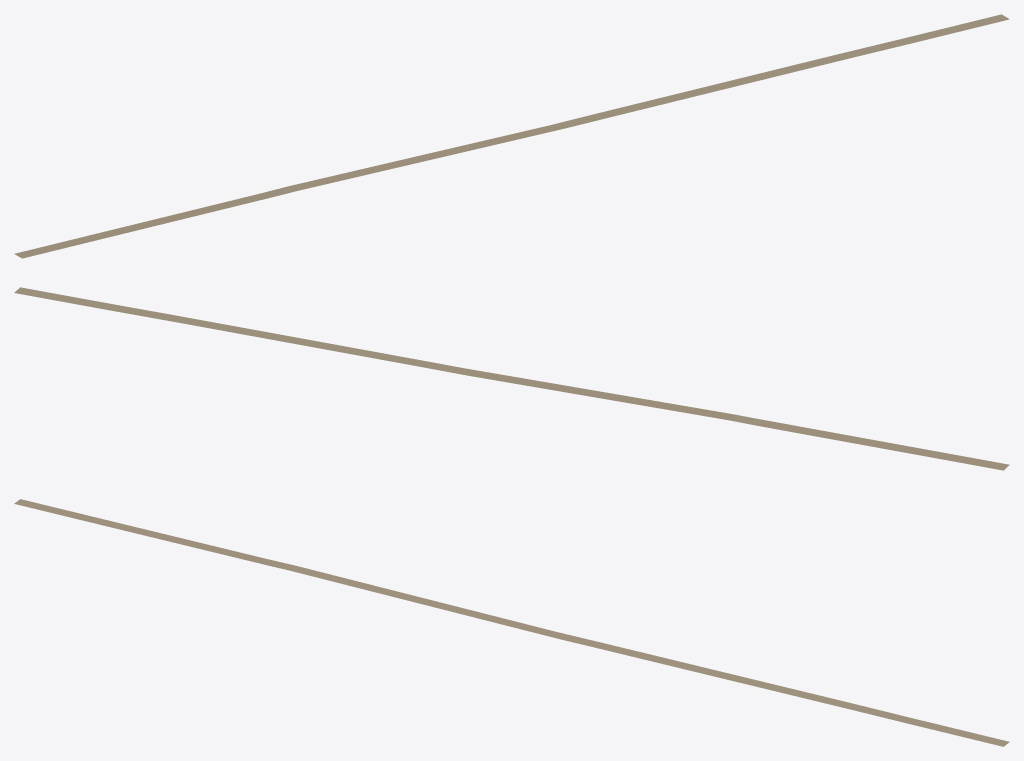
Rendered from farm_16_23_track.glb.
The picture shows the model from 3 angles, top to bottom: view 1: azimuth 30°, elevation 25°; view 2: azimuth 150°, elevation 25°; view 3: azimuth 330°, elevation 25°; orthographic projection. The views are drawn at different scales.
Parts seen in each view (by area): view 1: geometry_0; view 2: geometry_0; view 3: geometry_0.
Part boxes in pixels (x1,y1,x2,y2): geometry_0: (14,14,1009,258); geometry_0: (14,287,1009,470); geometry_0: (14,499,1009,746).
Size of the model in its own units: 257 by 8.49 by 18.13.
